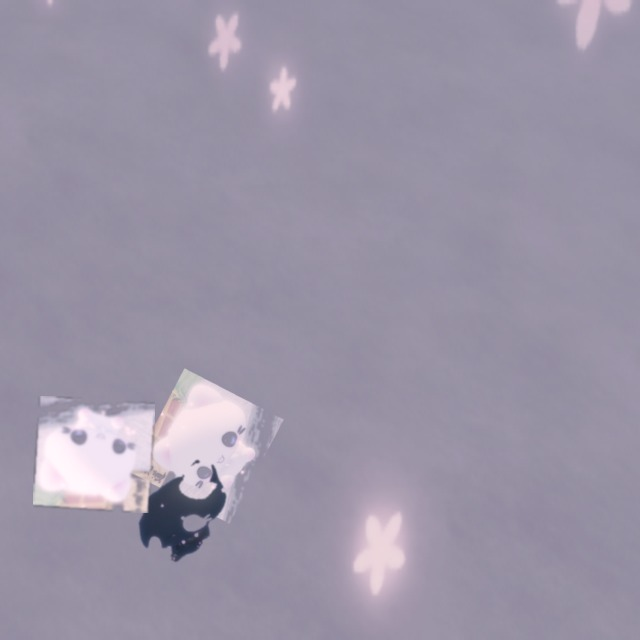urso_branco: (130, 368, 284, 524), (33, 396, 155, 513)
urso_preto: (100, 430, 266, 593)
